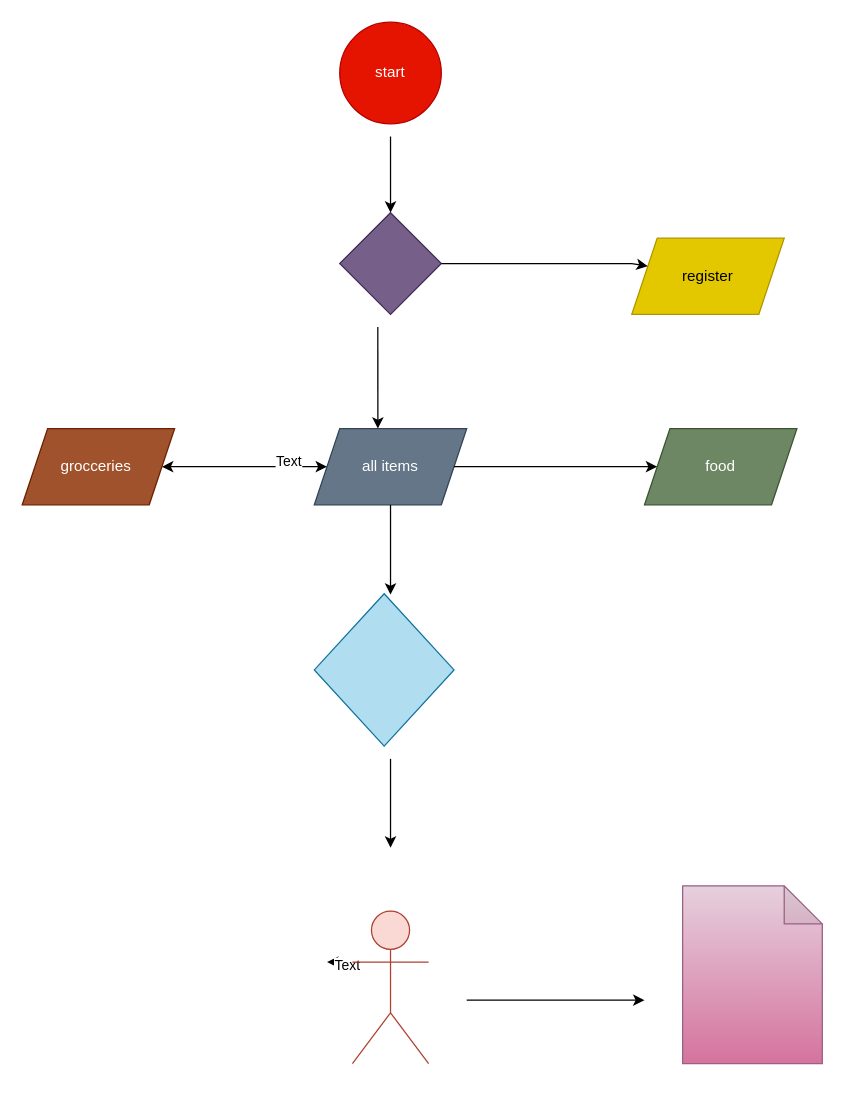
Image size: 845x1113. Some labels were removed from this diagram. The centre of each missing label's shape, as x and y in pixels:
Actor: the point at 390,987
delivery items: the point at 751,974
login: the point at 389,262
